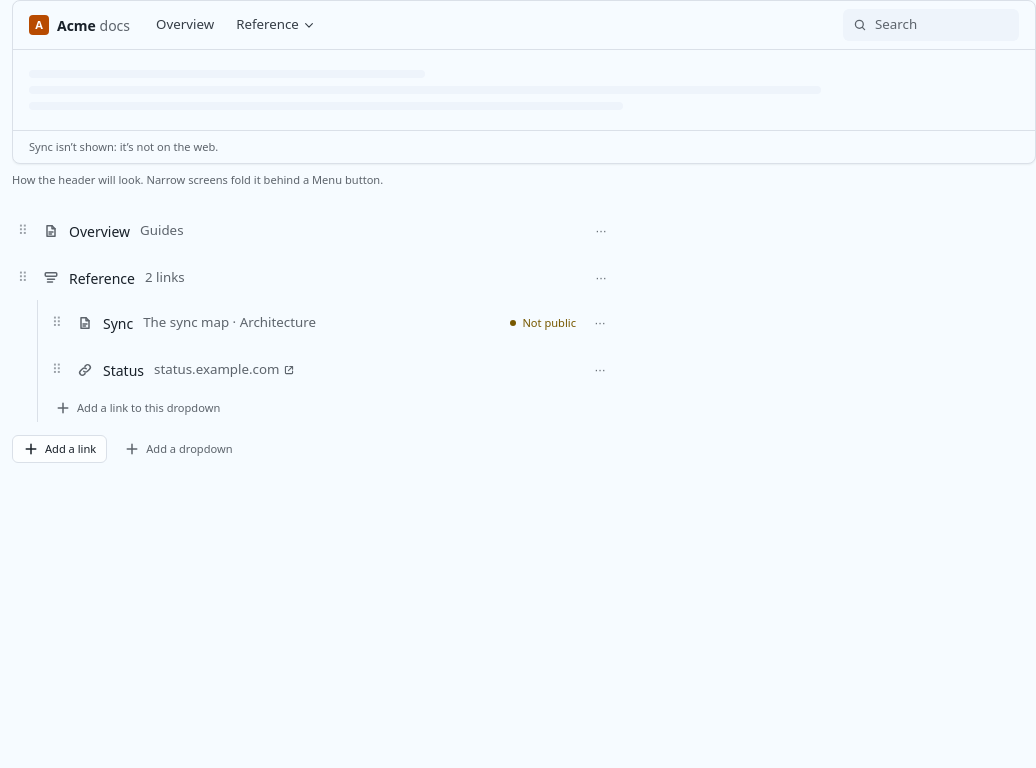
Scenario: the public menu editor › opens one row at a time, by click or Enter, and closes it on Escape with focus back on the row
Click the button "Overview Guides": (100, 231) [37, 213, 583, 249]
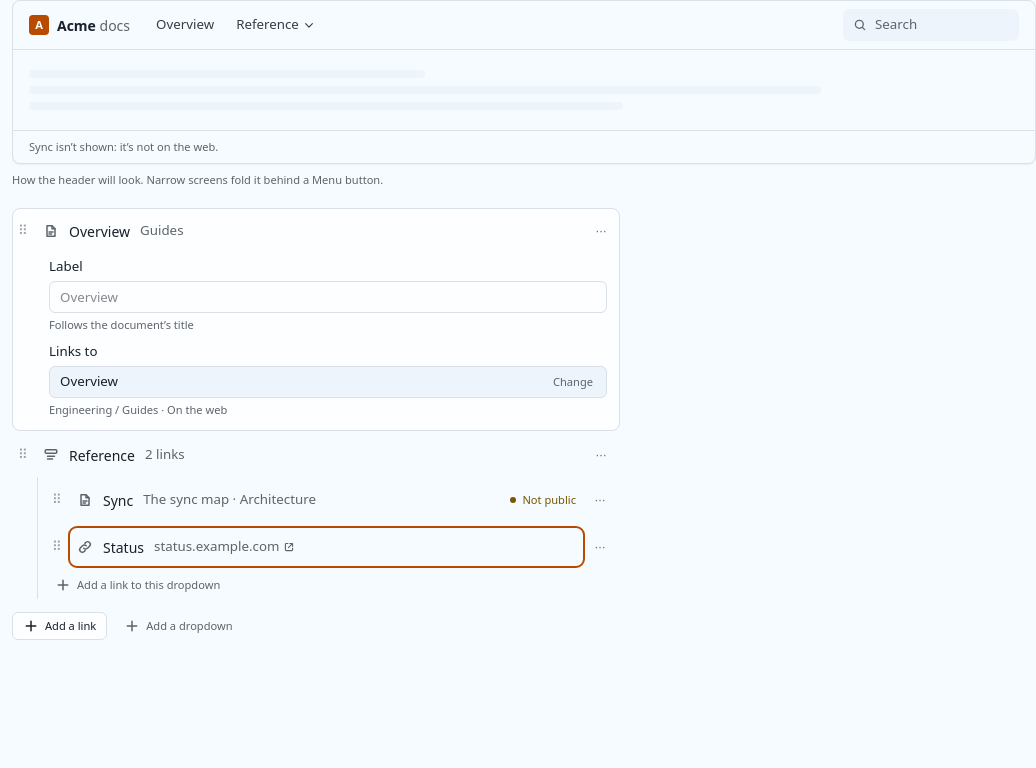
Press Enter
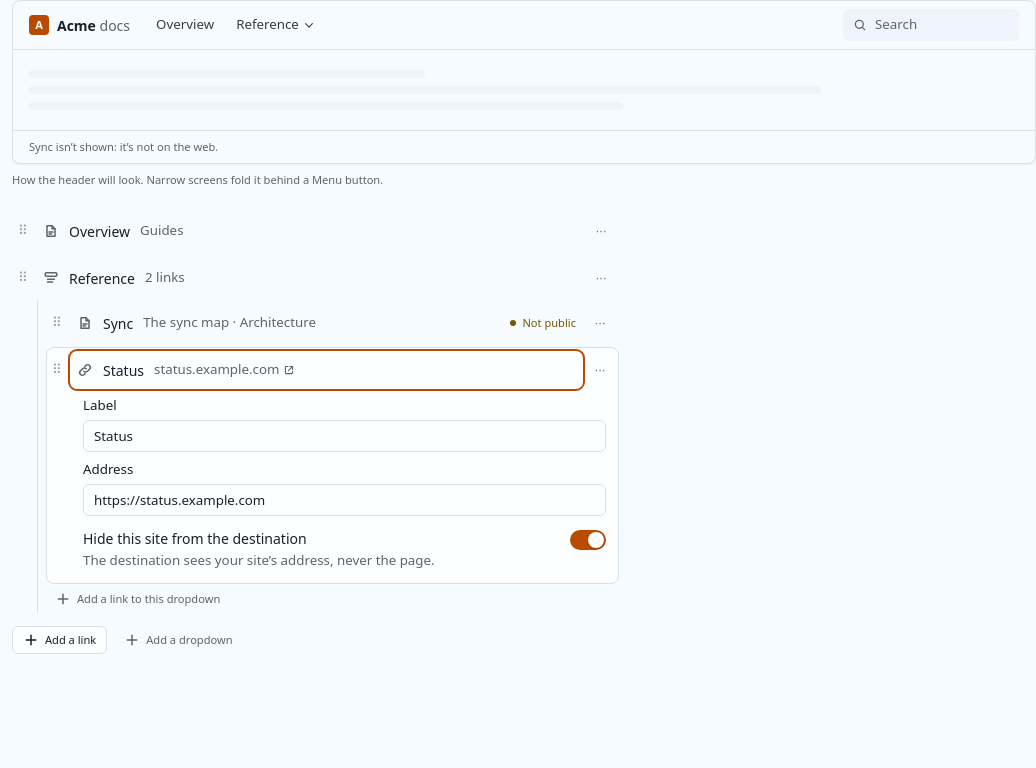
Expected: the button "Status status.example.com" is shown, [71, 352, 582, 388]
Now the number of fields labelled "Label" is 1, box [83, 420, 606, 452]
Click the field labelled "Address": (344, 500) [83, 484, 606, 516]
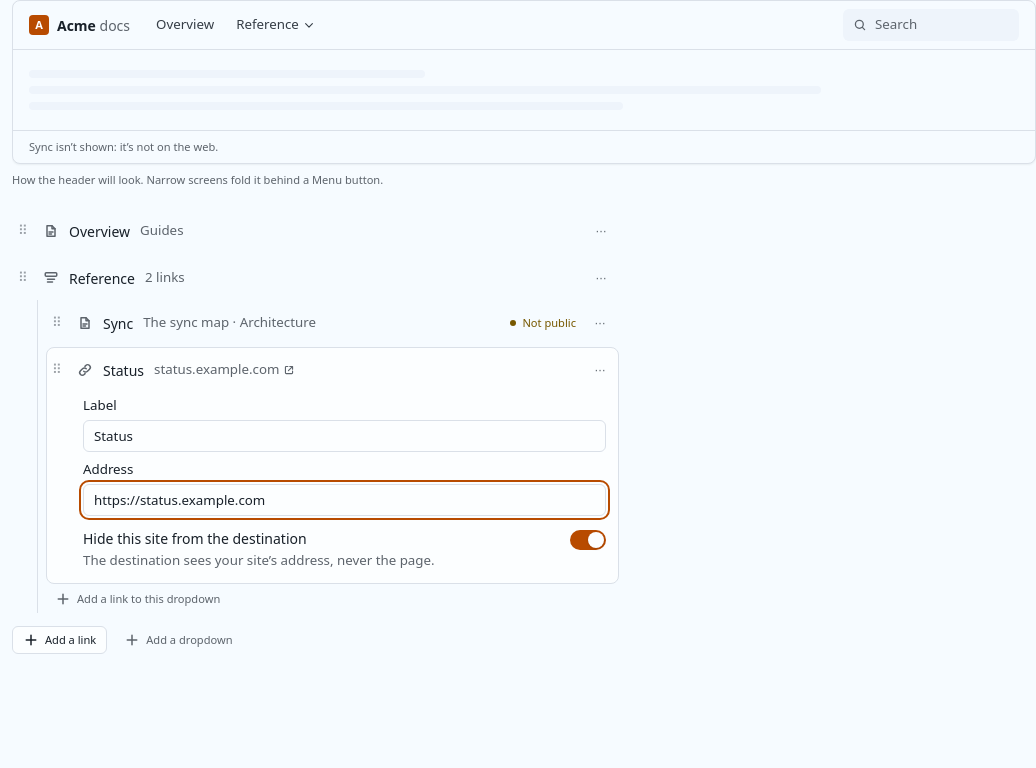
Press Escape
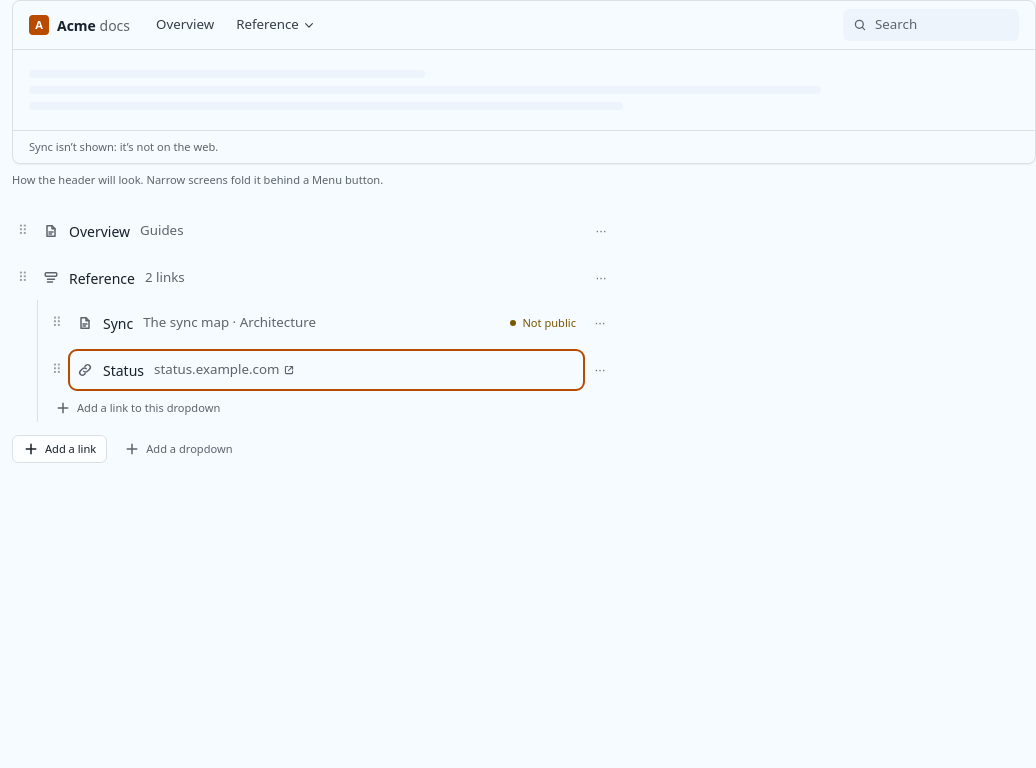
Now the label labelled "Address" is gone
